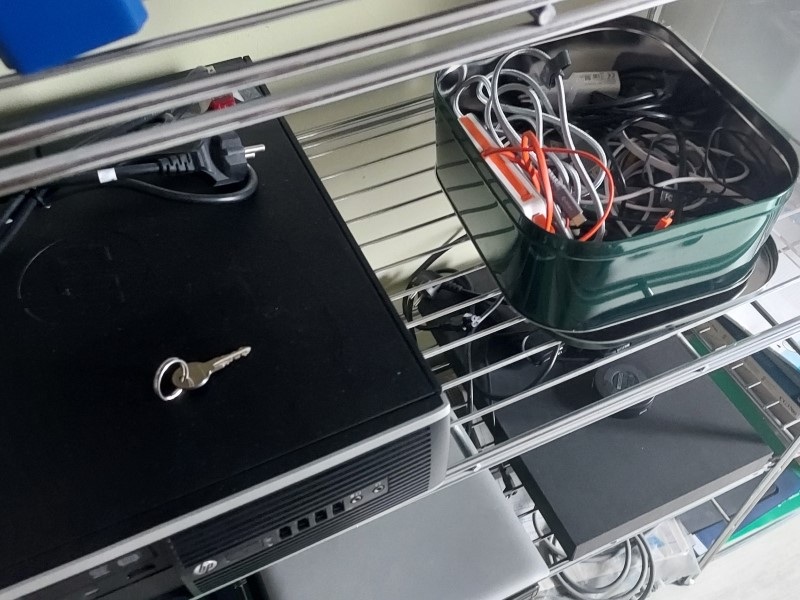key: (168, 343, 259, 389)
